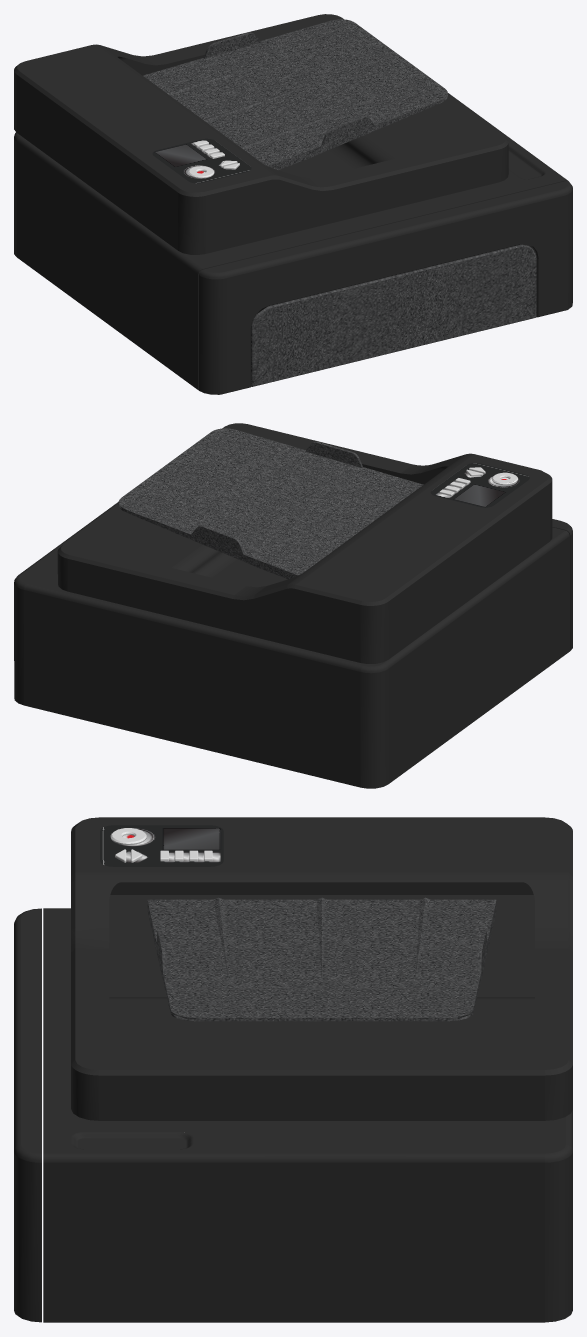
The model's file is Impresora Laser.glb.
The picture shows the model from 3 angles, top to bottom: view 1: azimuth 30°, elevation 25°; view 2: azimuth 150°, elevation 25°; view 3: azimuth 270°, elevation 25°; orthographic projection. The views are drawn at different scales.
Parts seen in each view (by area): view 1: bb6f0c04-064b-4bcb-ae41-f8d3fab73460, 4d50aa2e-1674-4d94-b5cb-a09da5ae9114, 8154e3d2-8d70-4e10-9ed0-f472ff4a9635, ae8eb5de-c14b-415d-ac59-dbd6cafe40c1, de7a5aa1-fe1f-41f0-85ac-f13cb5b55e09, e2f5d091-13b4-4a4e-ade1-a8ef9a52c51a; view 2: 4d50aa2e-1674-4d94-b5cb-a09da5ae9114, bb6f0c04-064b-4bcb-ae41-f8d3fab73460, ae8eb5de-c14b-415d-ac59-dbd6cafe40c1, e2f5d091-13b4-4a4e-ade1-a8ef9a52c51a, 8154e3d2-8d70-4e10-9ed0-f472ff4a9635; view 3: 4d50aa2e-1674-4d94-b5cb-a09da5ae9114, bb6f0c04-064b-4bcb-ae41-f8d3fab73460, ae8eb5de-c14b-415d-ac59-dbd6cafe40c1, 8154e3d2-8d70-4e10-9ed0-f472ff4a9635, e2f5d091-13b4-4a4e-ade1-a8ef9a52c51a.
Part boxes in pixels (bbox=[...]): bb6f0c04-064b-4bcb-ae41-f8d3fab73460: bbox=[14, 14, 508, 254]; 4d50aa2e-1674-4d94-b5cb-a09da5ae9114: bbox=[14, 93, 568, 390]; 8154e3d2-8d70-4e10-9ed0-f472ff4a9635: bbox=[199, 181, 572, 394]; ae8eb5de-c14b-415d-ac59-dbd6cafe40c1: bbox=[143, 19, 447, 170]; de7a5aa1-fe1f-41f0-85ac-f13cb5b55e09: bbox=[251, 244, 536, 386]; e2f5d091-13b4-4a4e-ade1-a8ef9a52c51a: bbox=[152, 138, 251, 183]; 4d50aa2e-1674-4d94-b5cb-a09da5ae9114: bbox=[14, 502, 569, 788]; bb6f0c04-064b-4bcb-ae41-f8d3fab73460: bbox=[57, 423, 552, 663]; ae8eb5de-c14b-415d-ac59-dbd6cafe40c1: bbox=[118, 428, 423, 579]; e2f5d091-13b4-4a4e-ade1-a8ef9a52c51a: bbox=[430, 463, 529, 507]; 8154e3d2-8d70-4e10-9ed0-f472ff4a9635: bbox=[552, 519, 572, 650]; 4d50aa2e-1674-4d94-b5cb-a09da5ae9114: bbox=[43, 908, 572, 1322]; bb6f0c04-064b-4bcb-ae41-f8d3fab73460: bbox=[71, 817, 572, 1120]; ae8eb5de-c14b-415d-ac59-dbd6cafe40c1: bbox=[147, 897, 496, 1021]; 8154e3d2-8d70-4e10-9ed0-f472ff4a9635: bbox=[14, 908, 41, 1322]; e2f5d091-13b4-4a4e-ade1-a8ef9a52c51a: bbox=[100, 825, 223, 866].
Bounding box in the file's own units: 0.4252 × 0.2079 × 0.401.
4 materials, 2 textured.
